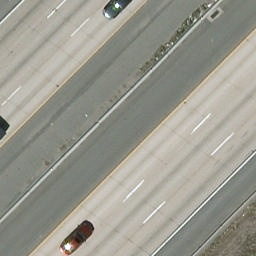car: (103, 1, 138, 22)
